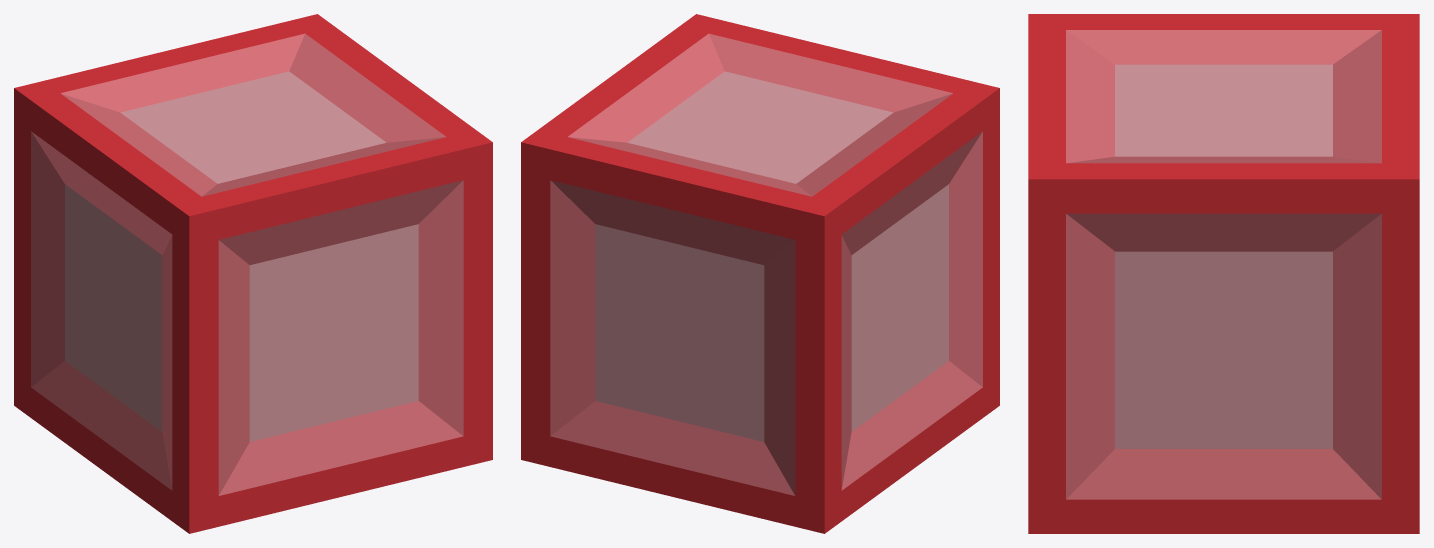
The model's file is CubeRed.fbx.
The picture shows the model from 3 angles, left to right: view 1: azimuth 30°, elevation 25°; view 2: azimuth 150°, elevation 25°; view 3: azimuth 270°, elevation 25°; orthographic projection. The views are drawn at different scales.
Parts seen in each view (by area): view 1: Cube.006; view 2: Cube.006; view 3: Cube.006.
Part boxes in pixels (<box>): Cube.006: <box>14,14,492,533</box>; Cube.006: <box>521,14,999,533</box>; Cube.006: <box>1028,14,1419,533</box>.
Bounding box in the file's own units: 109 × 109 × 109.
